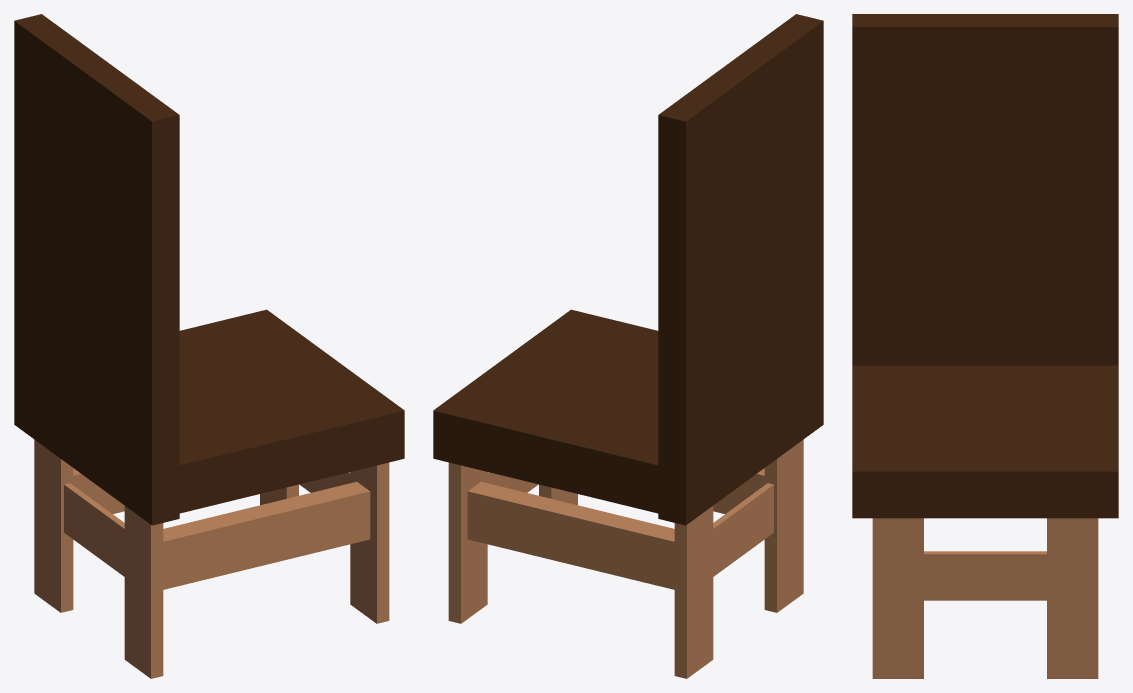
File: Chair.fbx
3 renders of one model, left to right at view 1: azimuth 30°, elevation 25°; view 2: azimuth 150°, elevation 25°; view 3: azimuth 270°, elevation 25°, orthographic. The views are drawn at different scales.
Parts seen in each view (by area): view 1: block, furniture_bench; view 2: block, furniture_bench; view 3: block, furniture_bench.
Boxes of the visible parts, left/top/right/bottom form: block: left=14, top=14, right=179, bottom=525; furniture_bench: left=34, top=309, right=404, bottom=678; block: left=658, top=14, right=823, bottom=525; furniture_bench: left=433, top=309, right=803, bottom=678; block: left=852, top=14, right=1118, bottom=365; furniture_bench: left=852, top=365, right=1118, bottom=678.
Size of the model in its own units: 2.75 by 5.9 by 2.6.
